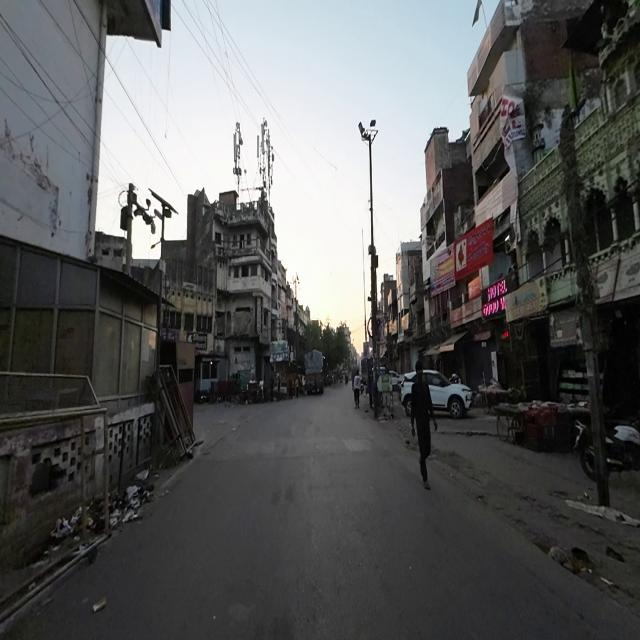Garbage: (54, 505, 104, 544), (106, 485, 145, 526)
